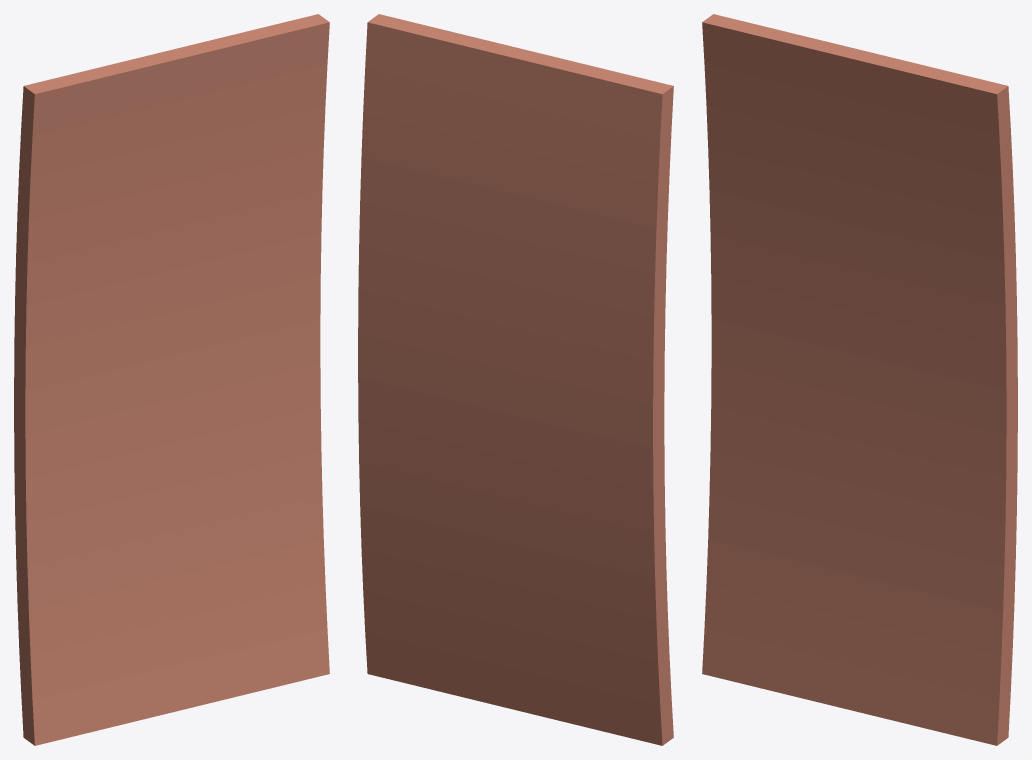
The model's file is biberschwanz.glb.
The picture shows the model from 3 angles, left to right: view 1: azimuth 30°, elevation 25°; view 2: azimuth 150°, elevation 25°; view 3: azimuth 330°, elevation 25°; orthographic projection.
Visible parts, largest first — view 1: world; view 2: world; view 3: world.
Boxes of the visible parts, x1,y1,x2,y2 form: world: (14,14,329,745); world: (358,14,673,745); world: (702,14,1017,745).
Bounding box in the file's own units: 0.18 × 0.38 × 0.022.
